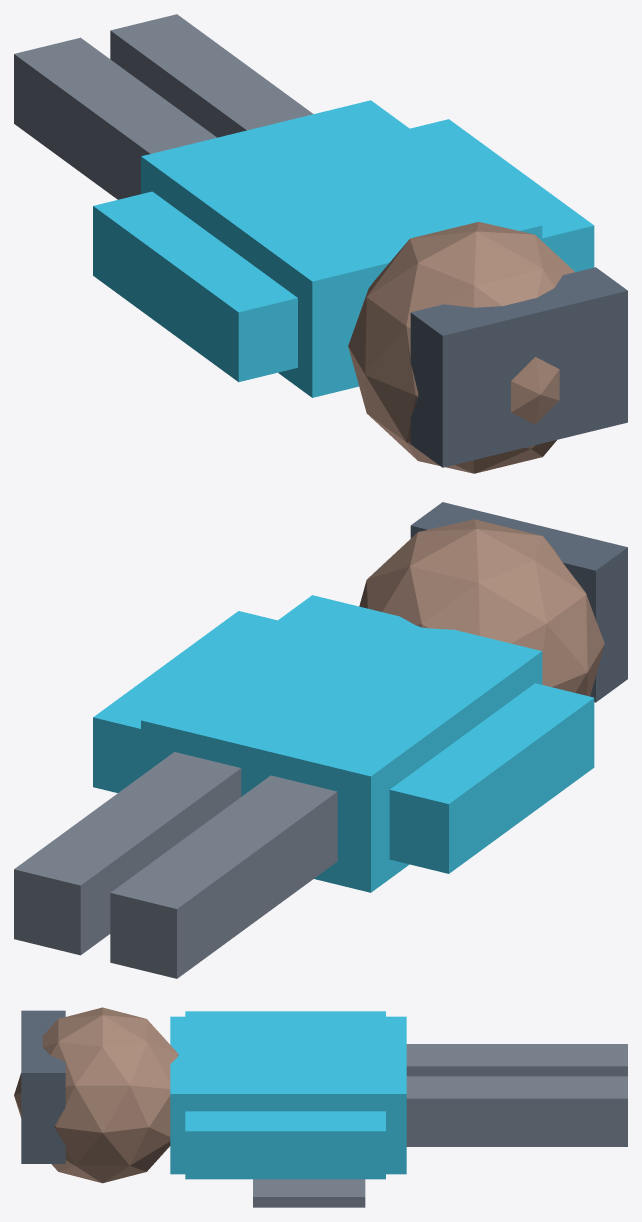
File: data_ops_variant_4.glb
3 renders of one model, top to bottom at view 1: azimuth 30°, elevation 25°; view 2: azimuth 150°, elevation 25°; view 3: azimuth 270°, elevation 25°, orthographic. The views are drawn at different scales.
Visible parts, largest first — view 1: torso_2, hair_6, head_5, arm_l_3, leg_l_0, leg_r_1, arm_r_4; view 2: torso_2, leg_l_0, head_5, arm_l_3, leg_r_1, arm_r_4, hair_6; view 3: torso_2, head_5, leg_r_1, arm_r_4, leg_l_0, hair_6, tablet_7, arm_l_3.
Boxes of the visible parts, x1=… form: torso_2: x1=141, y1=100, x2=542, y2=397; hair_6: x1=410, y1=267, x2=627, y2=467; head_5: x1=348, y1=222, x2=574, y2=473; arm_l_3: x1=93, y1=191, x2=297, y2=382; leg_l_0: x1=14, y1=37, x2=216, y2=199; leg_r_1: x1=110, y1=14, x2=313, y2=137; arm_r_4: x1=410, y1=119, x2=594, y2=271; torso_2: x1=141, y1=595, x2=542, y2=892; leg_l_0: x1=110, y1=775, x2=337, y2=978; head_5: x1=359, y1=519, x2=604, y2=696; arm_l_3: x1=389, y1=683, x2=594, y2=873; leg_r_1: x1=14, y1=752, x2=241, y2=955; arm_r_4: x1=93, y1=611, x2=277, y2=792; hair_6: x1=410, y1=502, x2=627, y2=702; torso_2: x1=170, y1=1016, x2=406, y2=1174; head_5: x1=14, y1=1007, x2=178, y2=1183; leg_r_1: x1=406, y1=1076, x2=627, y2=1146; arm_r_4: x1=185, y1=1111, x2=385, y2=1179; leg_l_0: x1=406, y1=1044, x2=627, y2=1076; hair_6: x1=21, y1=1010, x2=65, y2=1163; tablet_7: x1=253, y1=1179, x2=365, y2=1207; arm_l_3: x1=185, y1=1011, x2=385, y2=1016.
Bounding box in the file's own units: 0.96 × 0.6 × 2.08.
